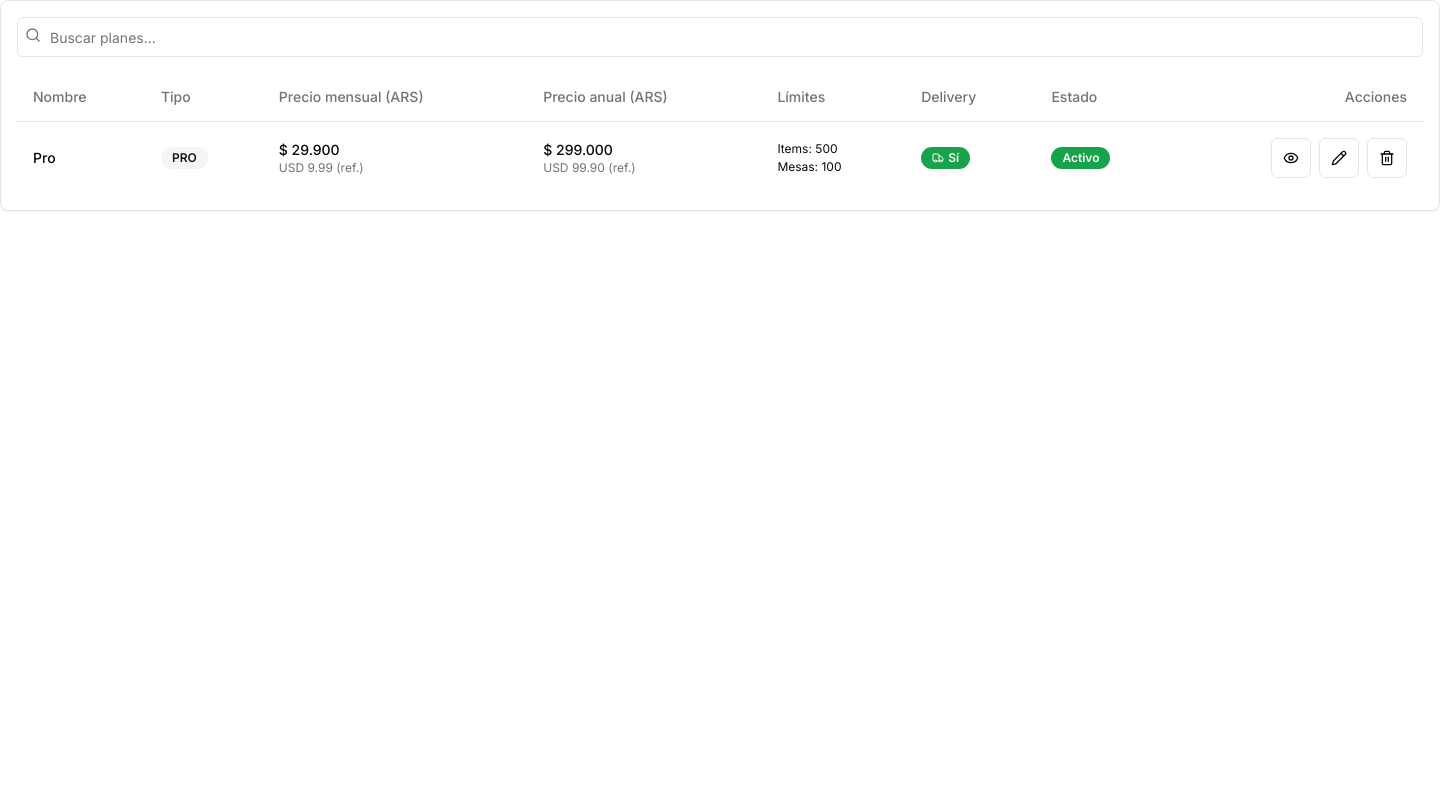
PlansTable: detalle del plan › muestra los precios ARS con su USD de referencia
Click the 1st button.
click(1291, 158)  # box top-left (1271, 138), bottom-right (1311, 178)
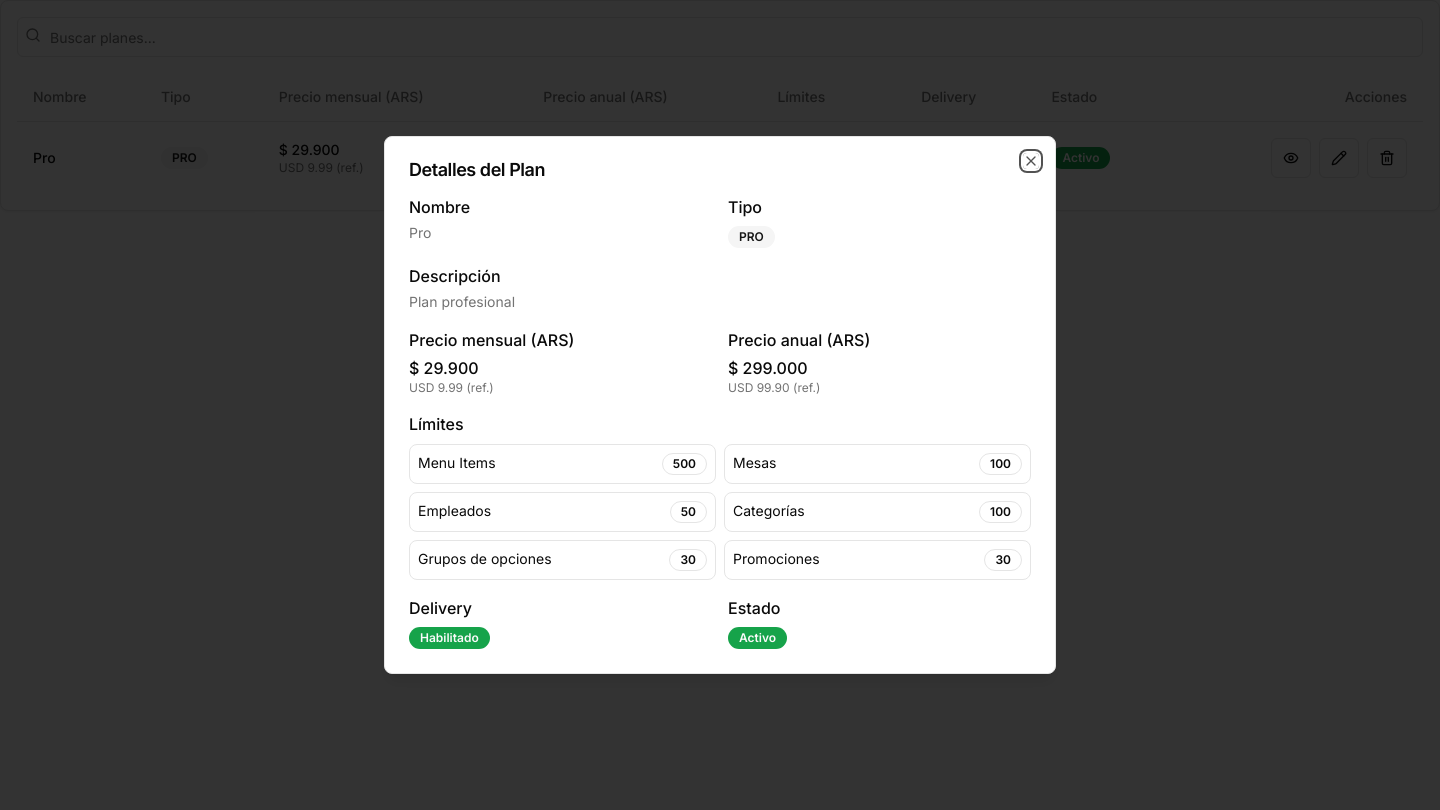
Expected: the heading "Detalles del Plan" is shown, top-left (409, 159), bottom-right (545, 180)
Expected: the heading "Precio mensual (ARS)" is shown, top-left (409, 330), bottom-right (574, 350)
Expected: the text "$ 29.900" is shown, top-left (409, 358), bottom-right (479, 378)
